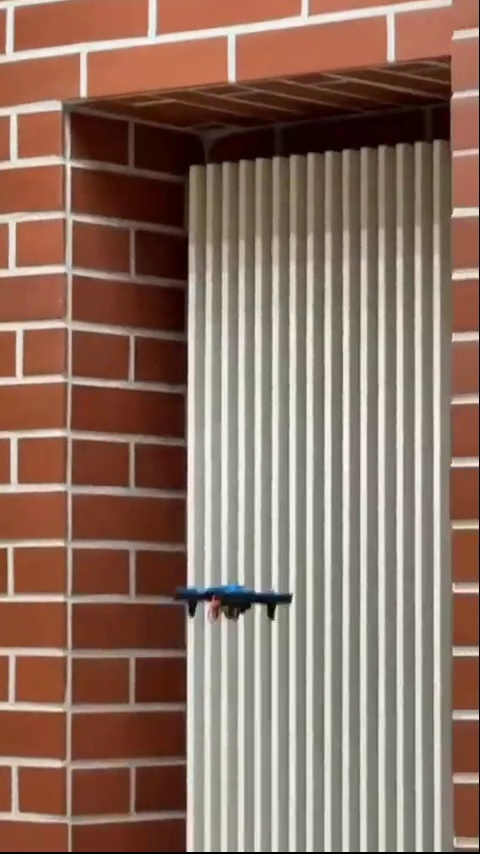drone: (175, 579, 292, 617)
